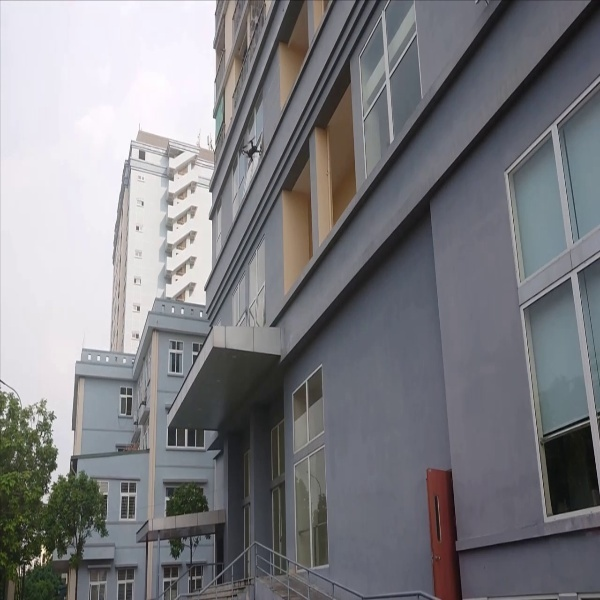drone: (235, 136, 265, 162)
